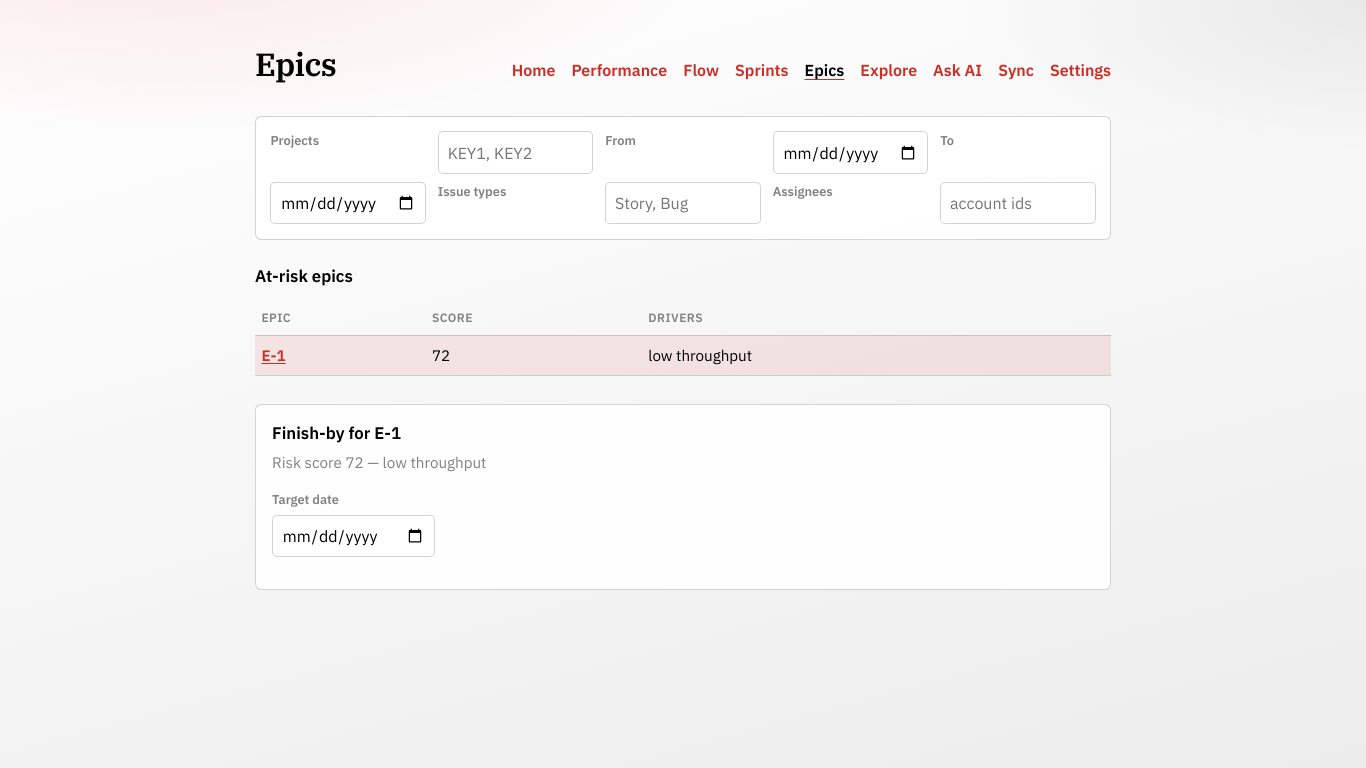
Test: EpicsPage › lists epic risk drivers and finish-by assumptions
The width and height of the screenshot is (1366, 768).
Expected: the button "E-1" is shown, x1=261 y1=344 x2=286 y2=366
Type "2026-12-01" into the date field labelled "Target date" at (353, 536), box x1=272 y1=515 x2=435 y2=557
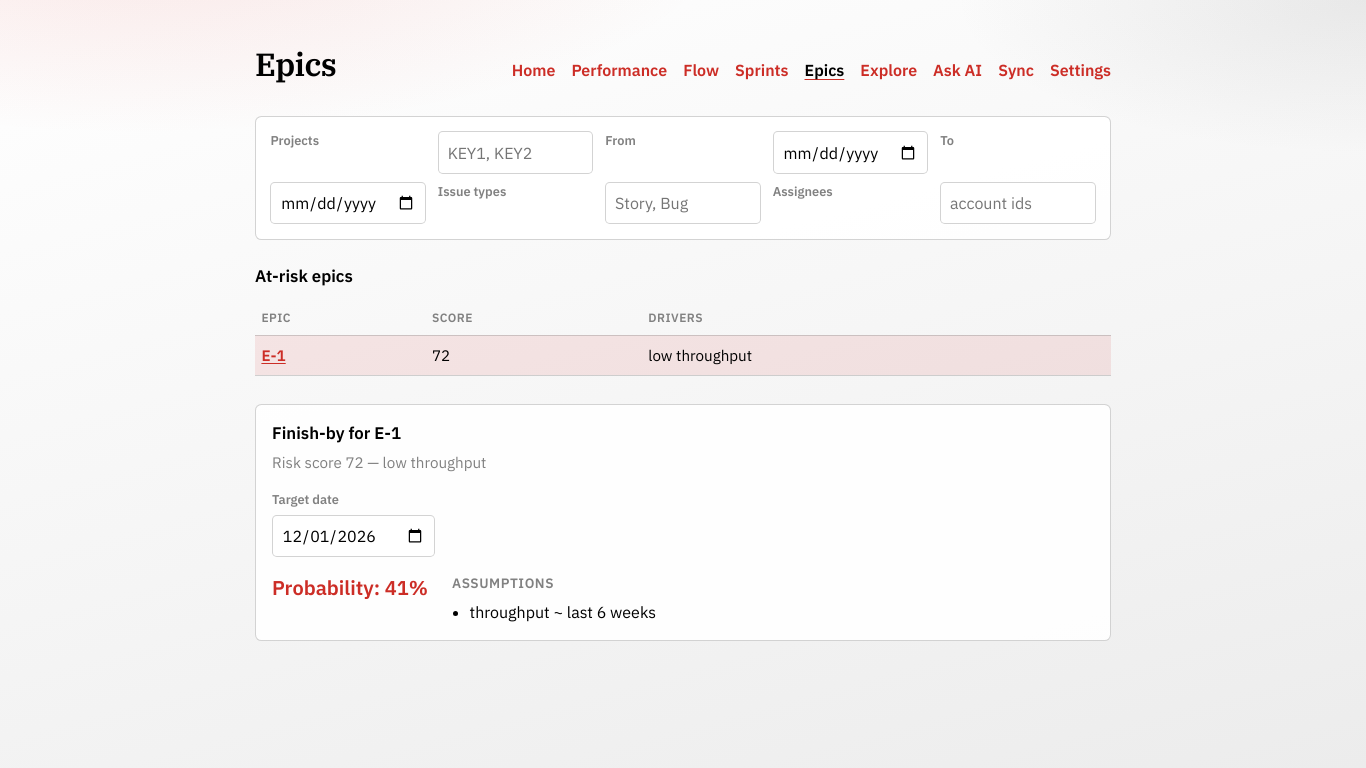
Expected: the list item "throughput ~ last 6 weeks" is shown, x1=470 y1=602 x2=656 y2=622
